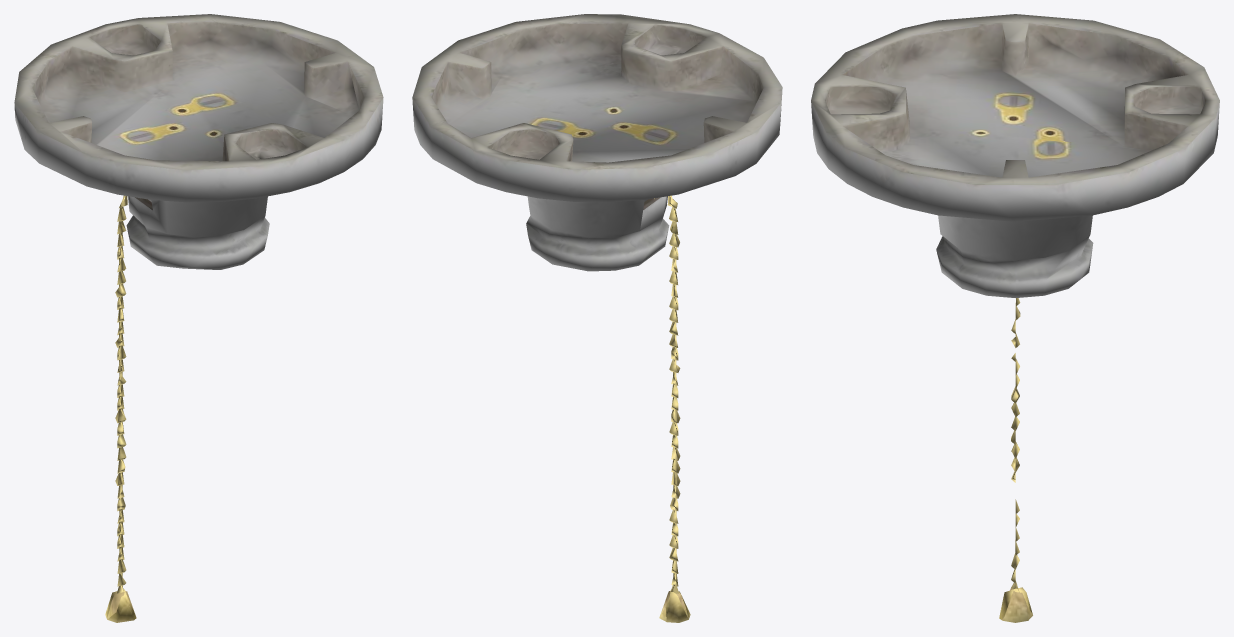
The model's file is pull_chain_light_socket.glb.
The picture shows the model from 3 angles, left to right: view 1: azimuth 30°, elevation 25°; view 2: azimuth 150°, elevation 25°; view 3: azimuth 270°, elevation 25°; orthographic projection. The views are drawn at different scales.
Parts seen in each view (by area): view 1: pull_chain_light_socket; view 2: pull_chain_light_socket; view 3: pull_chain_light_socket.
Boxes of the visible parts, <box> form: pull_chain_light_socket: <box>14,14,383,622</box>; pull_chain_light_socket: <box>412,14,782,622</box>; pull_chain_light_socket: <box>811,14,1219,622</box>.
Bounding box in the file's own units: 0.1094 × 0.1653 × 0.11.
1 material, 1 textured.
